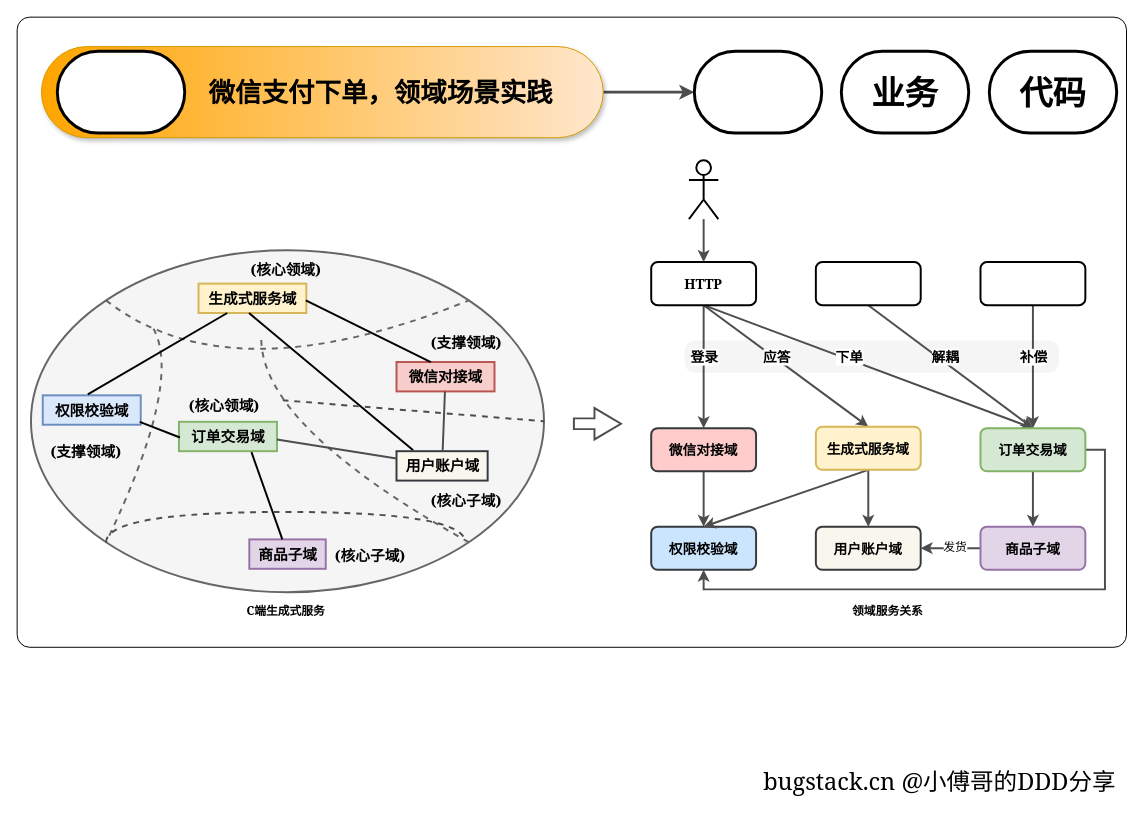
The diagram is 1144 pixels wide and 818 high, and some of its shapes have lost their labels. Each missing label, with the centre of its shape:
"Actor" goes at pixel 703 189.
"DDD" goes at pixel 120 91.
"JOB" goes at pixel 1032 283.
"MQ" goes at pixel 867 283.
"架构" goes at pixel 757 91.
